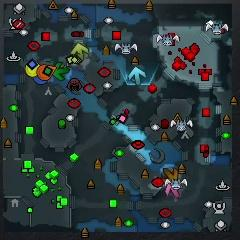p1: (33, 75, 46, 84)
p4: (24, 61, 39, 77)
p5: (37, 65, 56, 80)
x1: (165, 184, 179, 198)
x2: (71, 43, 88, 61)
x3: (128, 67, 146, 85)
x4: (53, 63, 69, 80)
x5: (163, 168, 178, 182)
